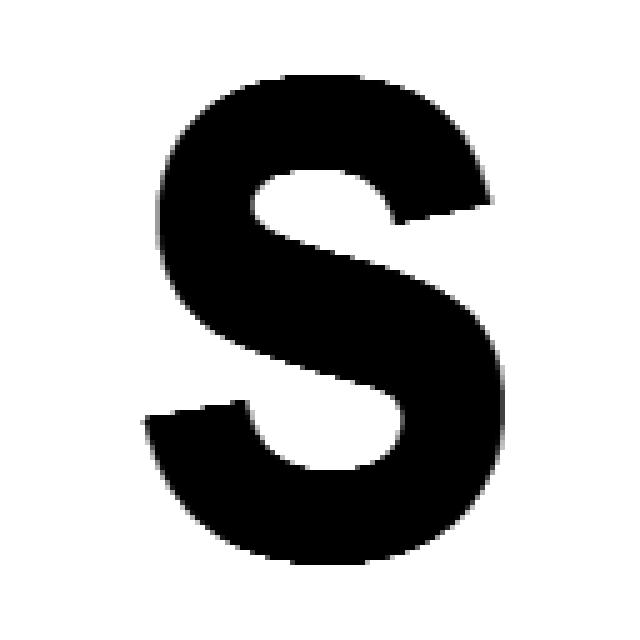S: (135, 60, 510, 570)
